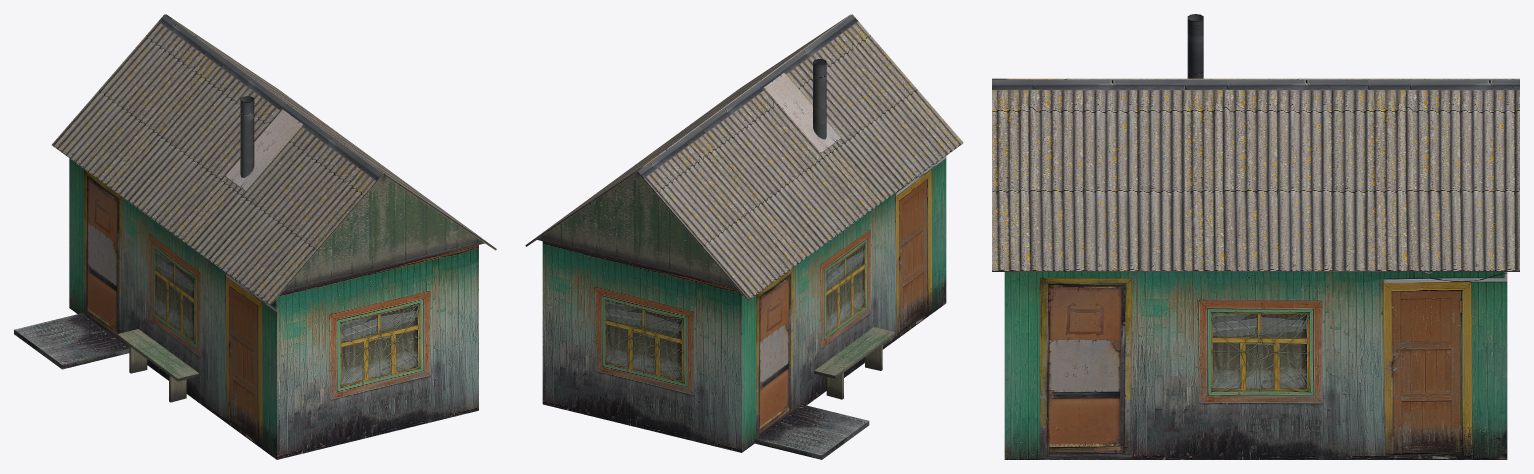
The model's file is sibir_prohodnaya.FBX.
3 renders of one model, left to right at view 1: azimuth 30°, elevation 25°; view 2: azimuth 150°, elevation 25°; view 3: azimuth 270°, elevation 25°, orthographic. The views are drawn at different scales.
Parts seen in each view (by area): view 1: sibir_prohodnaya; view 2: sibir_prohodnaya; view 3: sibir_prohodnaya.
Part boxes in pixels (x1,y1,x2,y2): sibir_prohodnaya: (14,14,496,459); sibir_prohodnaya: (525,14,963,459); sibir_prohodnaya: (992,14,1519,459).
Size of the model in its own units: 410 by 547 by 403.
